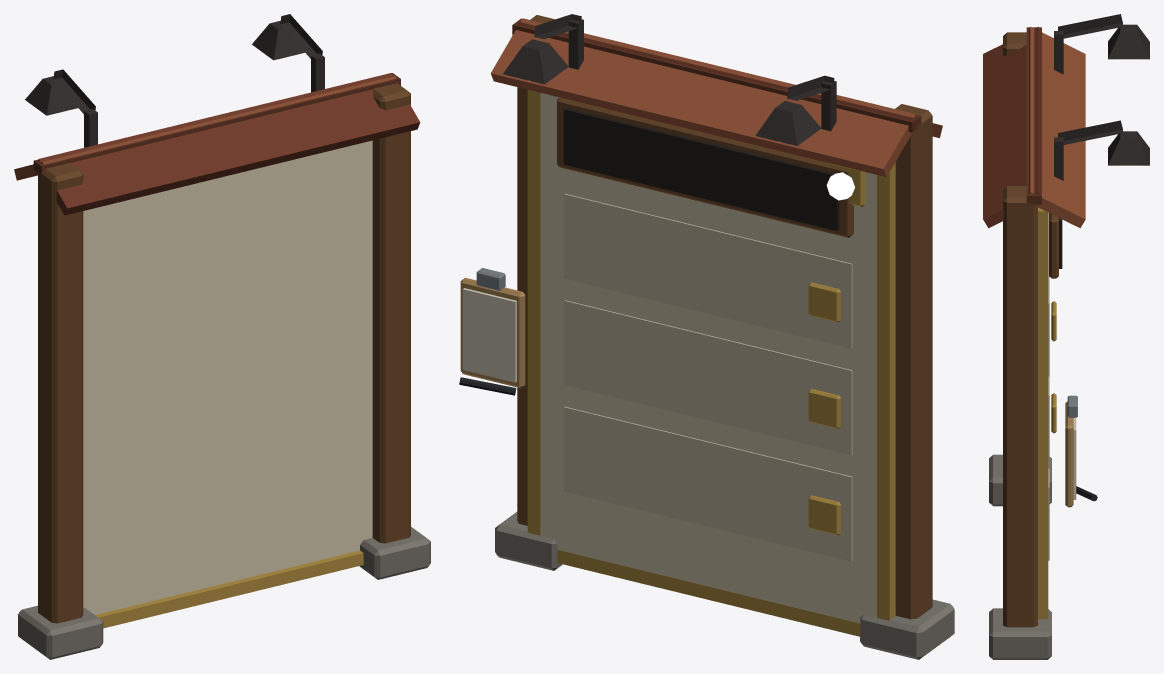
The model's file is DailyJobsBoard.glb.
3 views of the same model, side by side, from view 1: azimuth 30°, elevation 25°; view 2: azimuth 150°, elevation 25°; view 3: azimuth 270°, elevation 25° (orthographic). The views are drawn at different scales.
Parts seen in each view (by area): view 1: Board, Body; view 2: Body, Board, Header; view 3: Body.
Boxes of the visible parts, x1,y1,x2,y2 form: Board: (83,140,372,614); Body: (14,14,430,659); Body: (459,14,954,659); Board: (540,93,876,623); Header: (563,108,839,231); Body: (983,14,1149,659).
Size of what is drawn, in the model's own units: 6.4 by 7.92 by 2.38.
